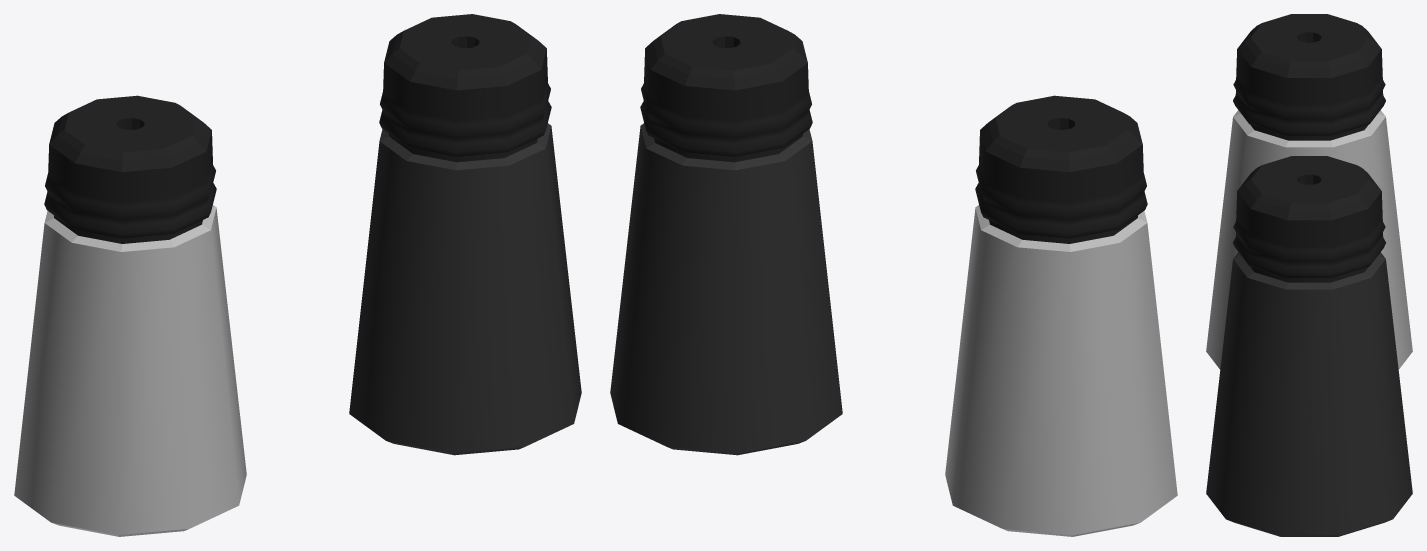
File: SaltAndPepperModel.fbx
The picture shows the model from 3 angles, left to right: view 1: azimuth 30°, elevation 25°; view 2: azimuth 150°, elevation 25°; view 3: azimuth 270°, elevation 25°; orthographic projection. The views are drawn at different scales.
Parts seen in each view (by area): view 1: SaltAndPepperModel; view 2: SaltAndPepperModel; view 3: SaltAndPepperModel.
Boxes of the visible parts, x1=… form: SaltAndPepperModel: x1=14, y1=14, x2=581, y2=536; SaltAndPepperModel: x1=610, y1=14, x2=1177, y2=536; SaltAndPepperModel: x1=1206, y1=14, x2=1412, y2=536.
Size of the model in its own units: 25.2 by 16.69 by 9.78.
